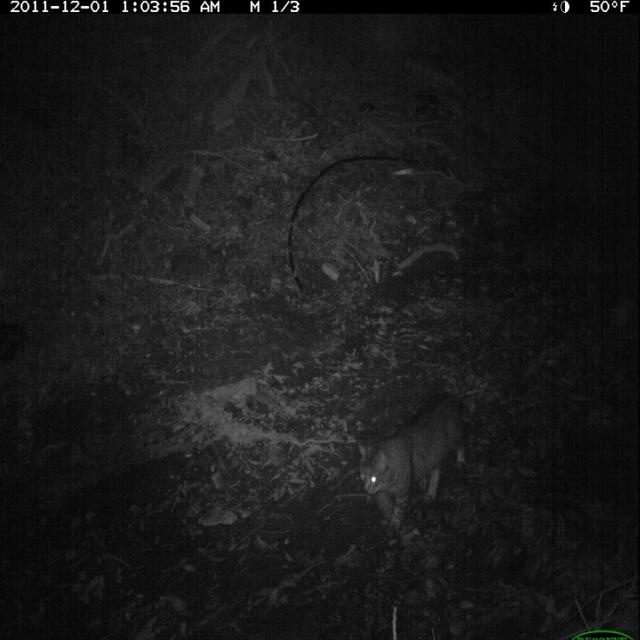cat: (348, 387, 489, 544)
